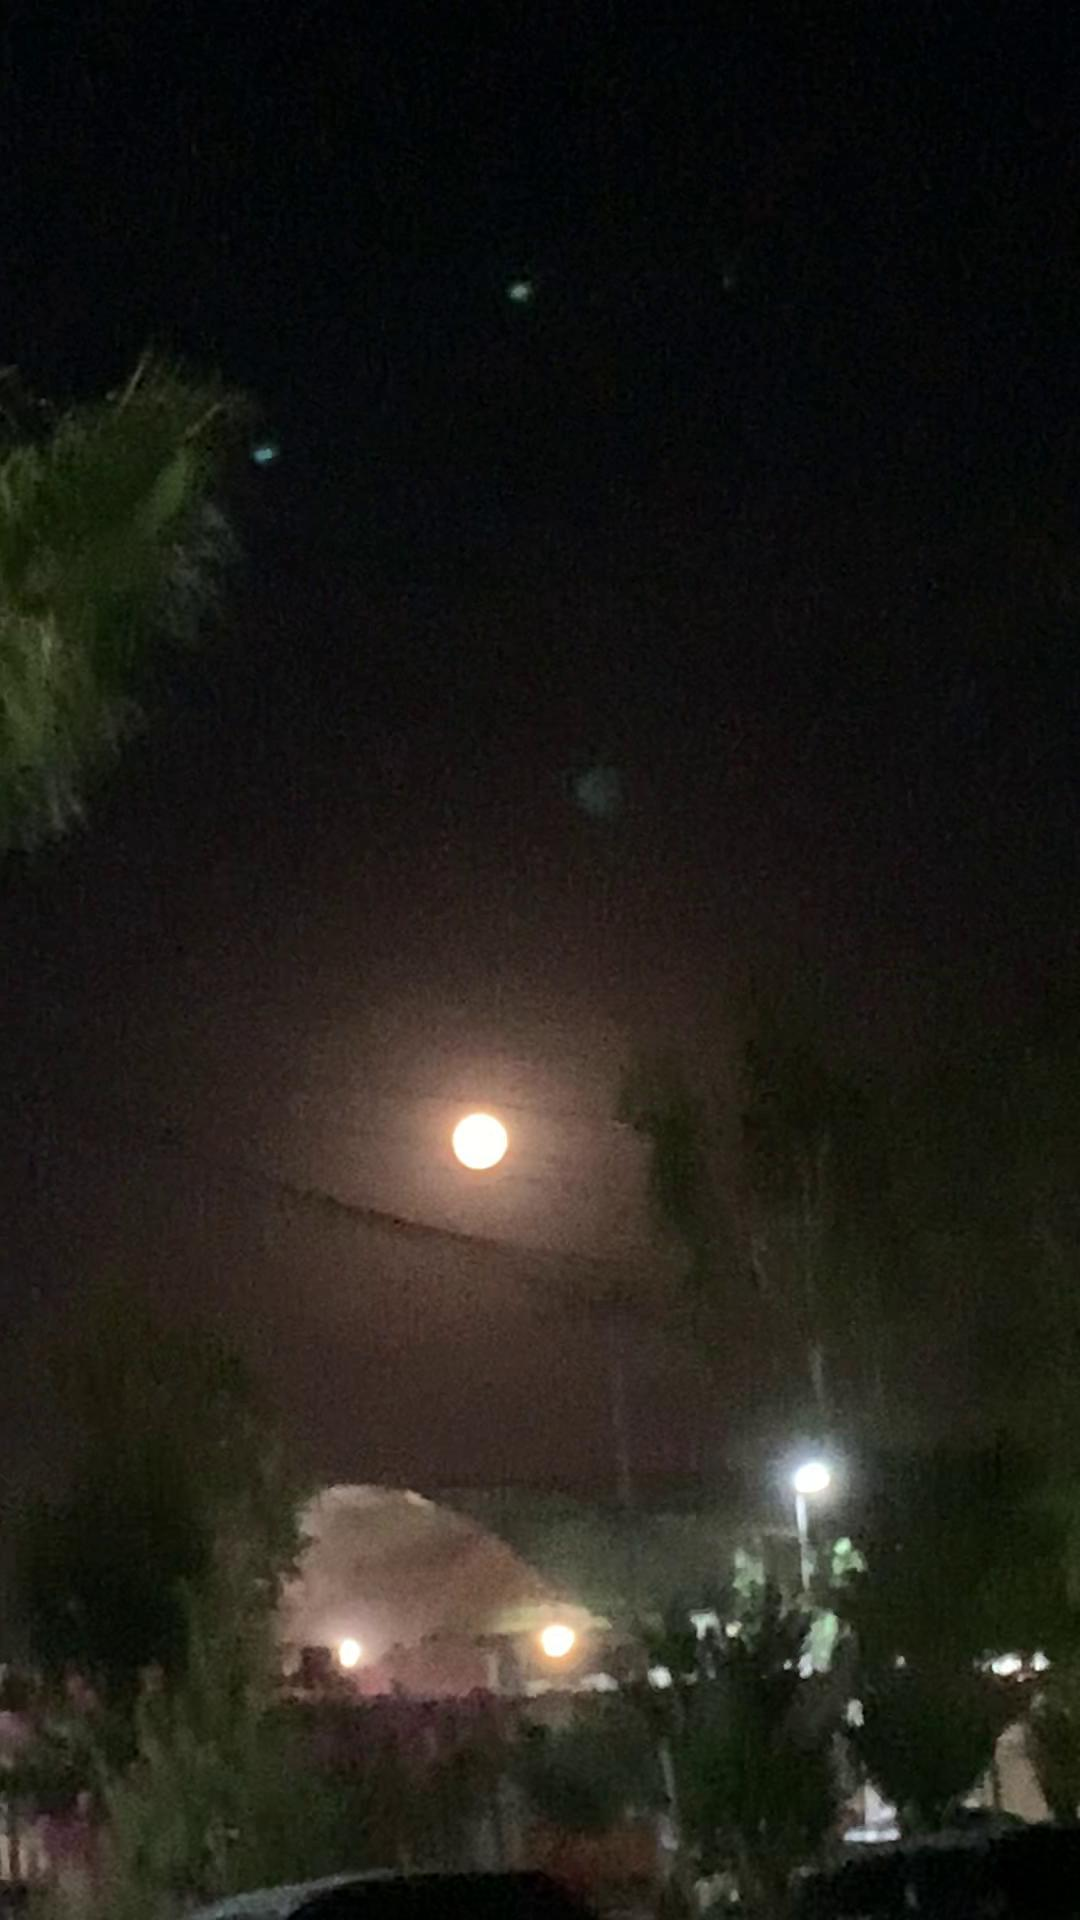moon: (419, 1085, 527, 1180)
